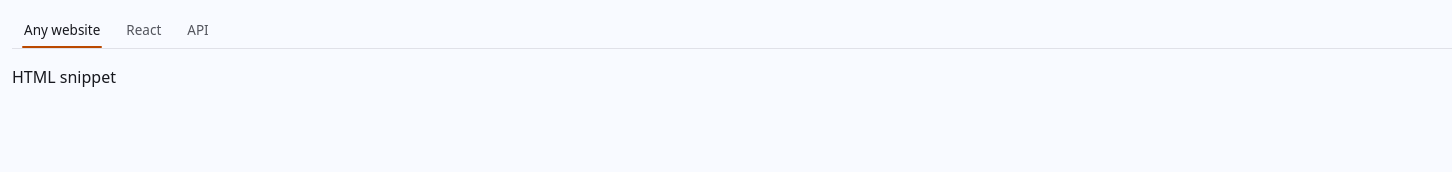
Test: Tabs › in controlled mode calls onValueChange and follows the value prop
Later steps or results of the test are not shown.
Click the tab "API": (198, 30) [175, 12, 221, 48]
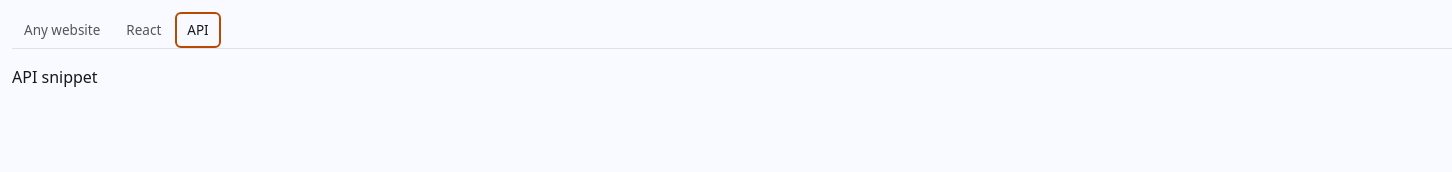
Now the tab "API" is selected, box [175, 12, 221, 48]
